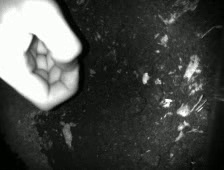corn: (139, 69, 152, 86)
